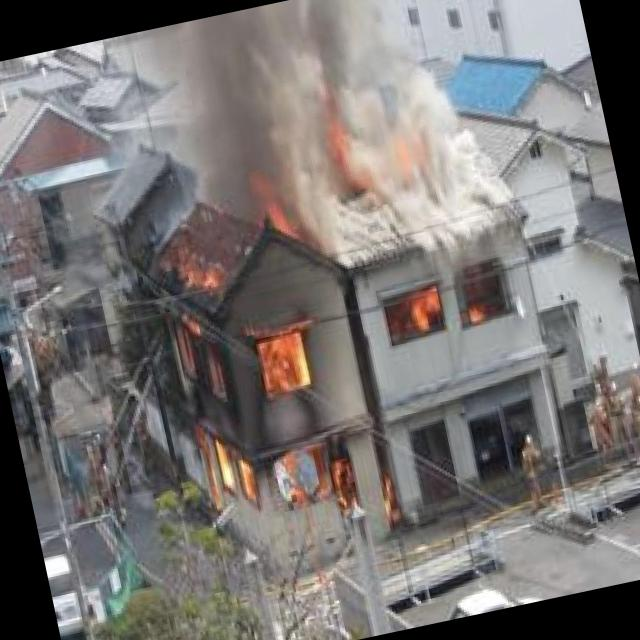Fire: (161, 269, 403, 567), (378, 278, 447, 345)
Smoke: (137, 0, 528, 307)
